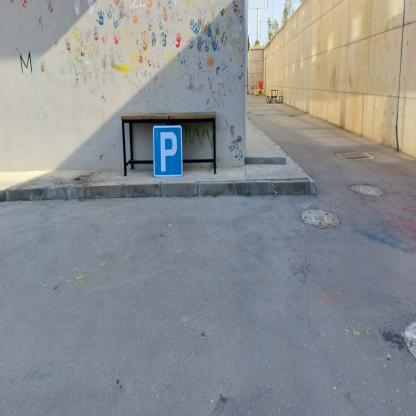Parking-Sign: (154, 126, 184, 178)
